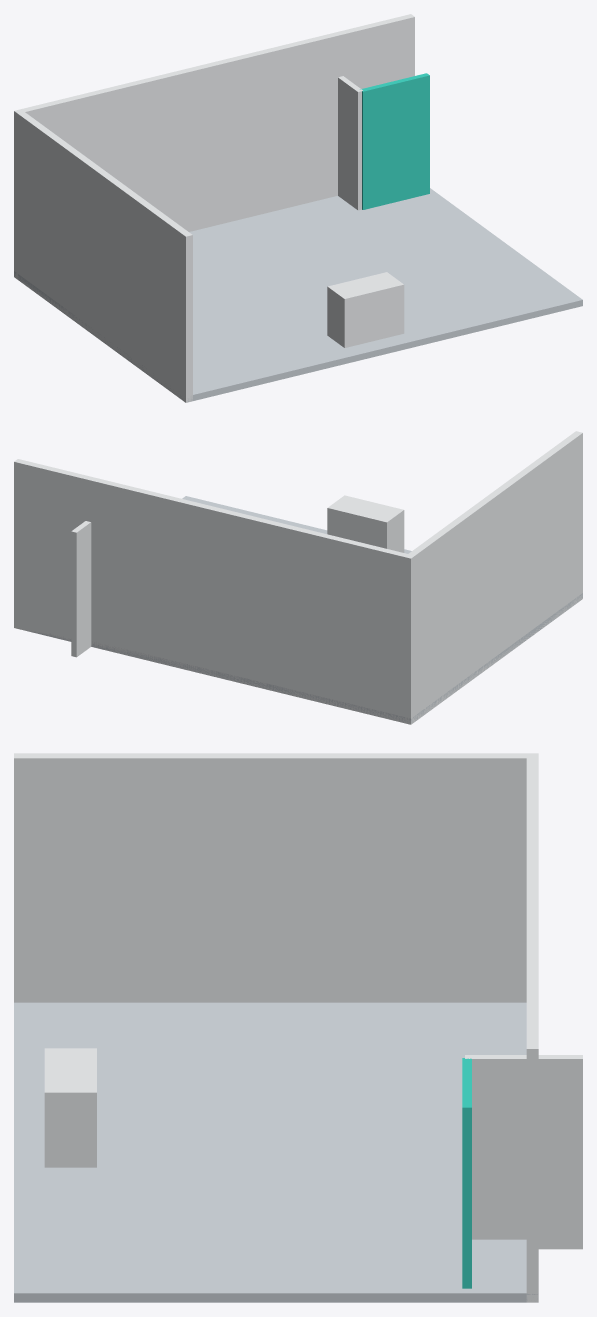
3 renders of one model, top to bottom at view 1: azimuth 30°, elevation 25°; view 2: azimuth 150°, elevation 25°; view 3: azimuth 270°, elevation 25°, orthographic. The views are drawn at different scales.
Visible parts, largest first — view 1: Exhibition Booth Concept; view 2: Exhibition Booth Concept; view 3: Exhibition Booth Concept.
Boxes of the visible parts, x1=… form: Exhibition Booth Concept: x1=14, y1=14, x2=582, y2=402; Exhibition Booth Concept: x1=14, y1=431, x2=582, y2=724; Exhibition Booth Concept: x1=14, y1=753, x2=582, y2=1302.
Bounding box in the file's own units: 8 × 3.2 × 6.51.
